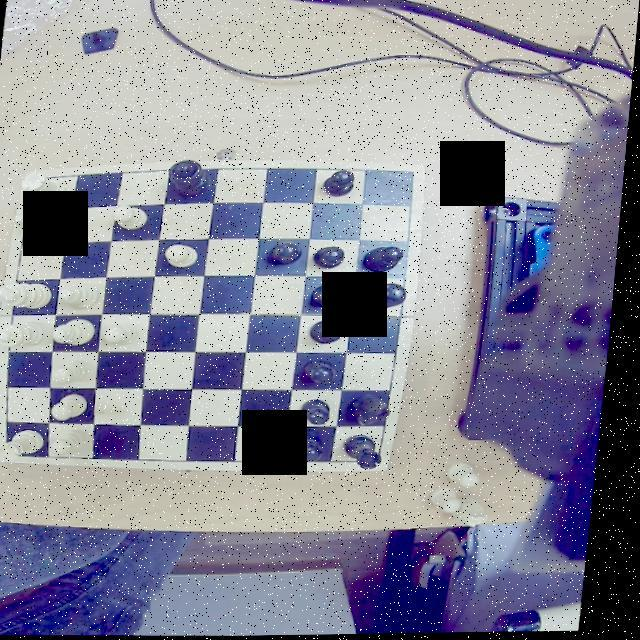chess-table-corners: (398, 167, 424, 188), (374, 448, 398, 469), (2, 447, 31, 462), (25, 175, 48, 192)
